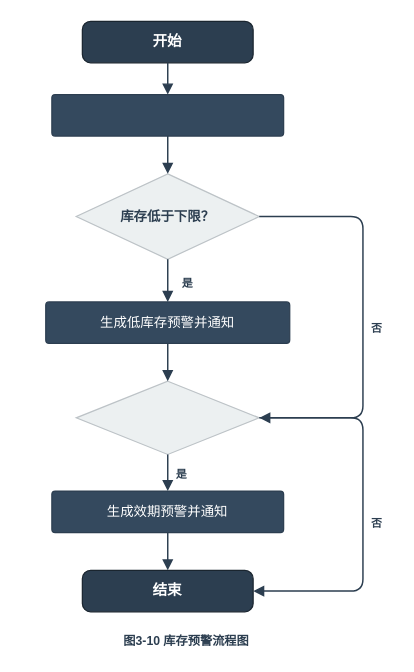
Image size: 414x672. Some labels were removed from this diagram. The shapes that lost their labels are listed below. From the top down, each one's box as (x1, y1, x2, y2) in pixels, then its label:
(51, 93, 284, 136): 系统定时扫描库存数据
(75, 380, 259, 454): 效期临近？
